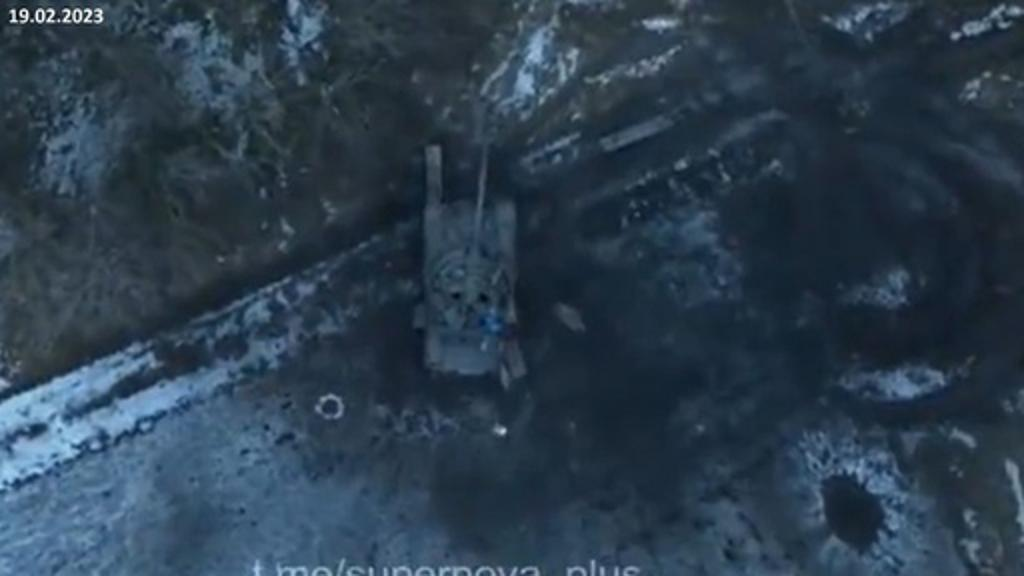TANK: (408, 140, 534, 382)
